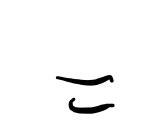eqv: (55, 75, 115, 114)
